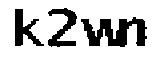2: (48, 5, 77, 49)
k: (11, 6, 44, 51)
n: (122, 16, 150, 53)
w: (81, 15, 124, 50)
